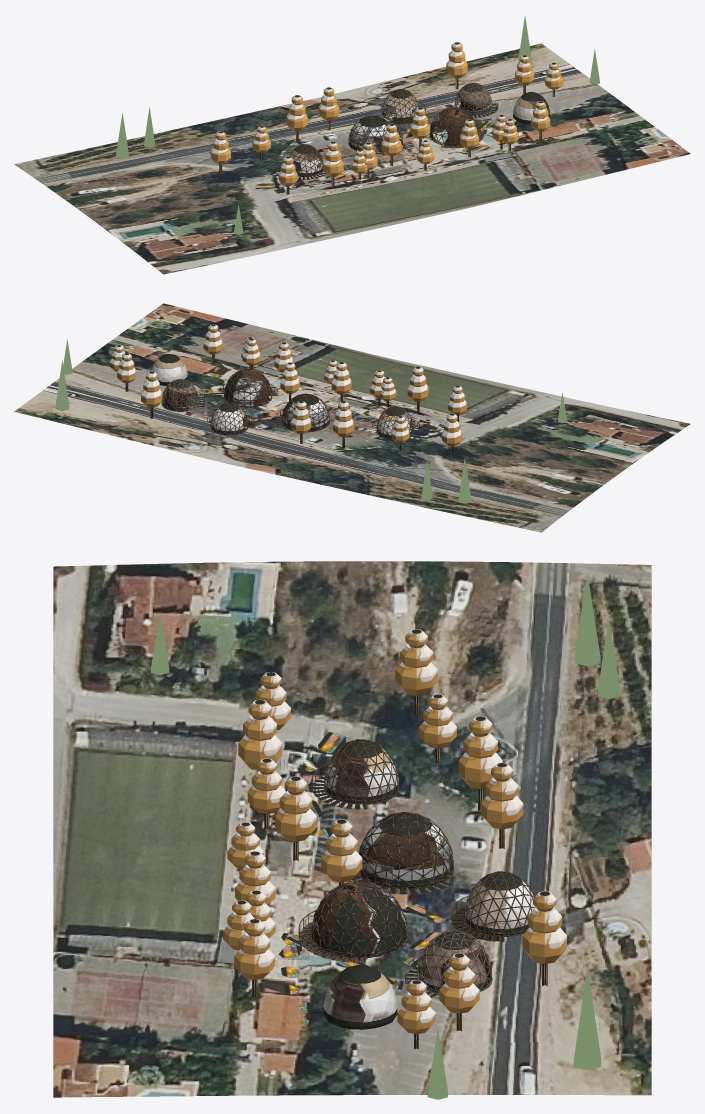
Rendered from aumara-site-v2_1.glb.
3 renders of one model, top to bottom at view 1: azimuth 30°, elevation 25°; view 2: azimuth 150°, elevation 25°; view 3: azimuth 270°, elevation 25°, orthographic. The views are drawn at different scales.
Visible parts, largest first — view 1: terrain, veg, veg_lod, house_D, house_B, house_E, house_C, house_A, house_F, path, bark; view 2: terrain, veg, house_D, veg_lod, house_B, house_C, house_E, house_F, house_A, bark; view 3: terrain, veg, house_D, house_B, veg_lod, house_A, house_C, house_F, house_E, path, bark.
Part boxes in pixels (x1=…): terrain: x1=14, y1=43, x2=690, y2=274; veg: x1=210, y1=42, x2=563, y2=185; veg_lod: x1=116, y1=15, x2=599, y2=234; house_D: x1=429, y1=107, x2=483, y2=148; house_B: x1=348, y1=115, x2=402, y2=155; house_E: x1=454, y1=82, x2=498, y2=117; house_C: x1=382, y1=89, x2=425, y2=123; house_A: x1=289, y1=144, x2=325, y2=179; house_F: x1=513, y1=92, x2=549, y2=124; path: x1=255, y1=118, x2=553, y2=188; bark: x1=219, y1=78, x2=554, y2=194; terrain: x1=14, y1=303, x2=690, y2=532; veg: x1=109, y1=324, x2=467, y2=446; house_D: x1=220, y1=368, x2=278, y2=407; veg_lod: x1=55, y1=339, x2=566, y2=503; house_B: x1=275, y1=393, x2=329, y2=432; house_C: x1=207, y1=402, x2=254, y2=435; house_E: x1=161, y1=379, x2=205, y2=411; house_F: x1=151, y1=353, x2=187, y2=385; house_A: x1=372, y1=406, x2=420, y2=439; bark: x1=118, y1=354, x2=458, y2=456; terrain: x1=53, y1=561, x2=651, y2=1097; veg: x1=223, y1=629, x2=566, y2=1034; house_D: x1=298, y1=880, x2=407, y2=962; house_B: x1=352, y1=812, x2=453, y2=894; veg_lod: x1=151, y1=573, x2=619, y2=1099; house_A: x1=311, y1=739, x2=399, y2=809; house_C: x1=451, y1=871, x2=535, y2=941; house_F: x1=323, y1=965, x2=397, y2=1029; house_E: x1=404, y1=930, x2=492, y2=997; path: x1=278, y1=732, x2=445, y2=1023; bark: x1=252, y1=695, x2=547, y2=1049.
Bounding box in the file's own units: 115 × 10.95 × 56.
23 materials, 20 textured.
